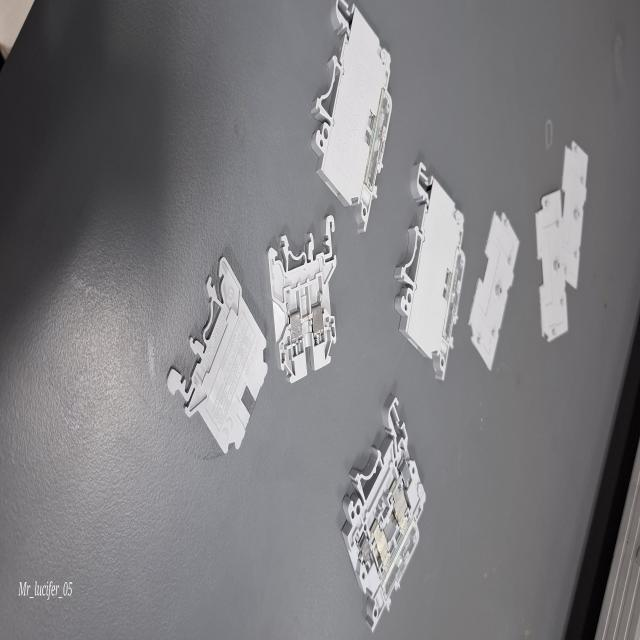Inverted: (150, 238, 270, 463)
Pass: (262, 201, 352, 388)
